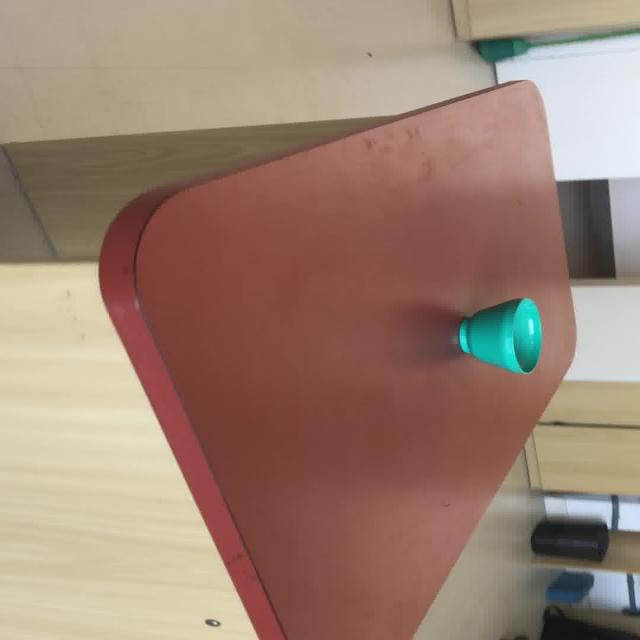bowl: (456, 297, 542, 374)
